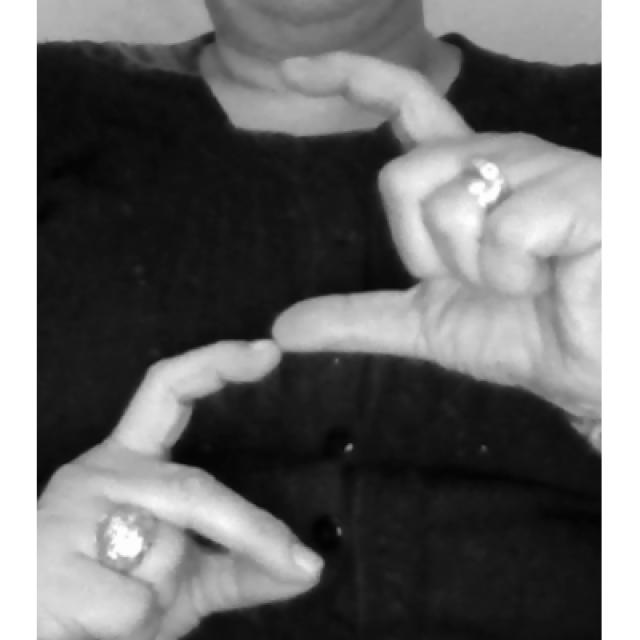S_: (38, 49, 602, 626)
